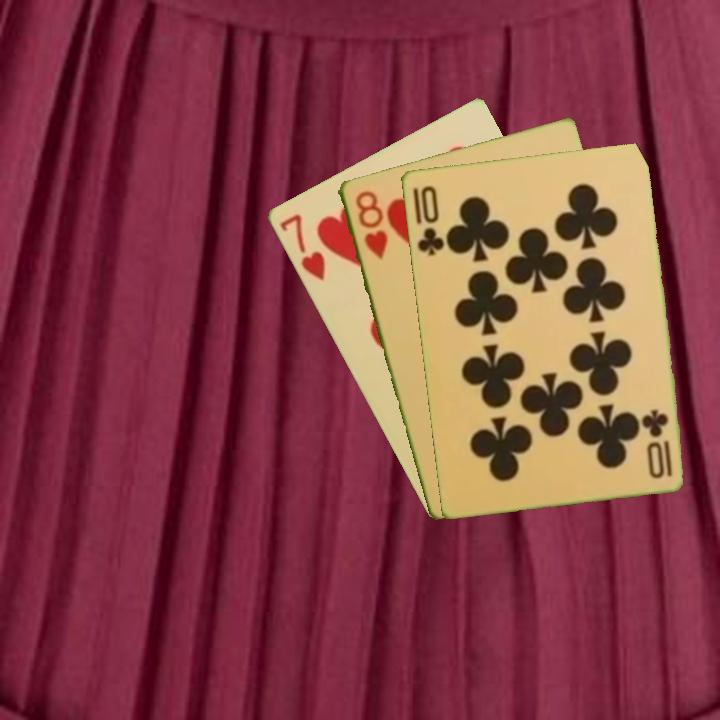10c: (413, 181, 447, 258), (640, 405, 674, 481)
7h: (276, 210, 328, 284)
8h: (351, 186, 390, 263)
